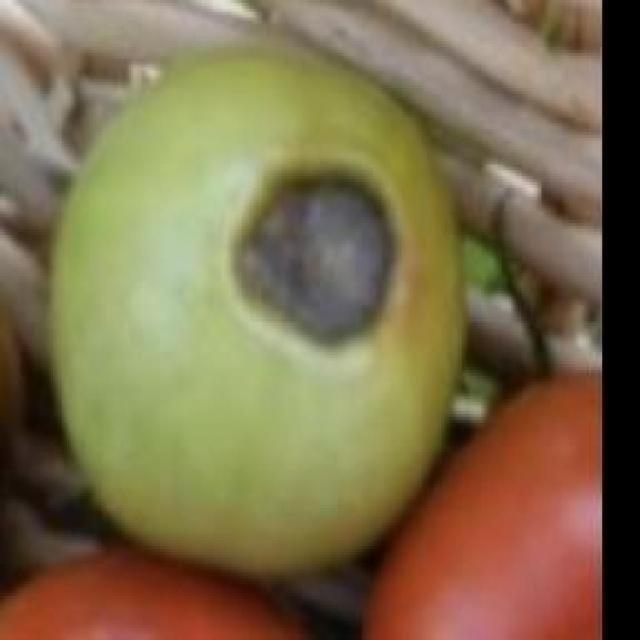Blossom End Rot Fruit: (145, 99, 271, 257)
